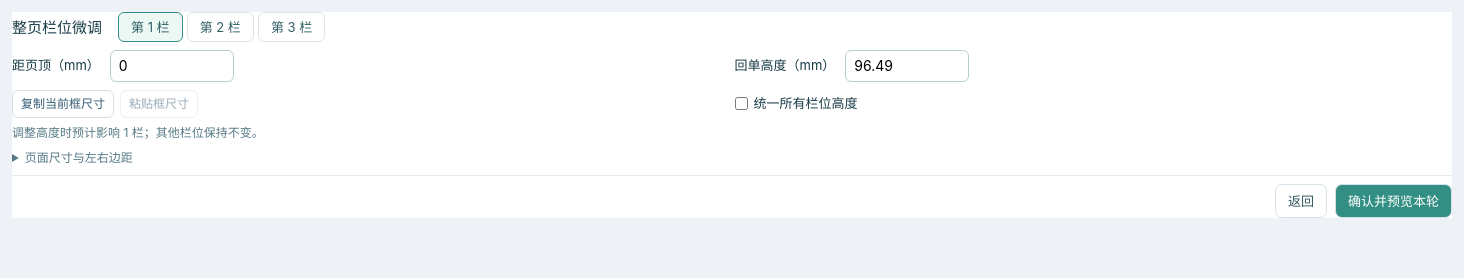
ReceiptLayoutEditor › keeps typed decimal height and lets another slot move after equal-height overflow
This screenshot has width=1464, height=278.
Replace the text in the number field labelled "回单高度（mm）" with "96.25" at (907, 66), box [845, 50, 969, 82]
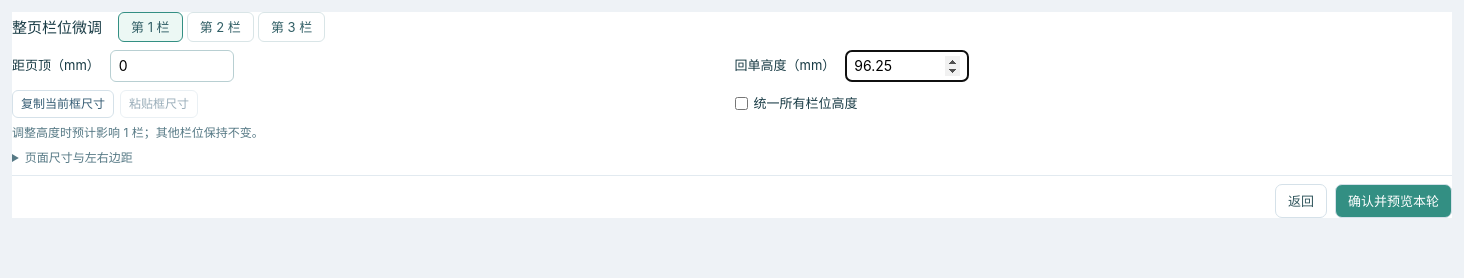
Click the checkbox labelled "统一所有栏位高度".
click(741, 104)  # box [734, 97, 748, 110]
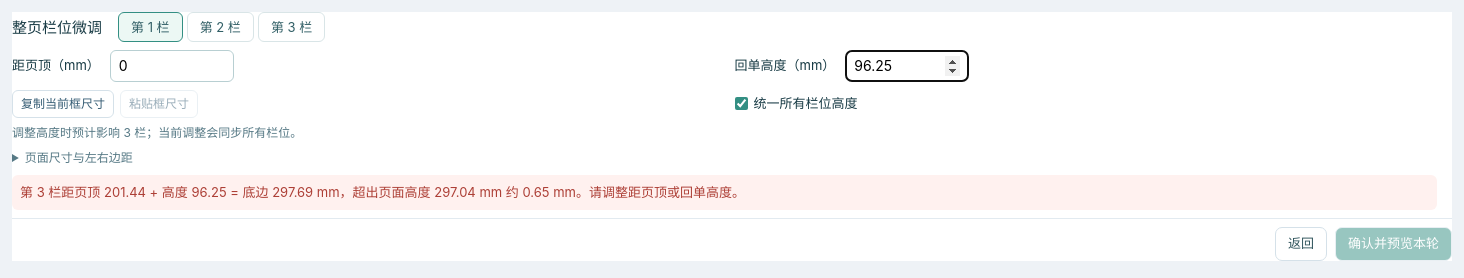
Expected: the checkbox labelled "统一所有栏位高度" is checked, [734, 97, 748, 110]
Expected: the 2nd message shows "0.65", [20, 184, 745, 200]
Expected: the 2nd message shows "297.69", [20, 184, 745, 200]
Click the button "第 3 栏".
click(292, 27)  # box [258, 12, 325, 42]
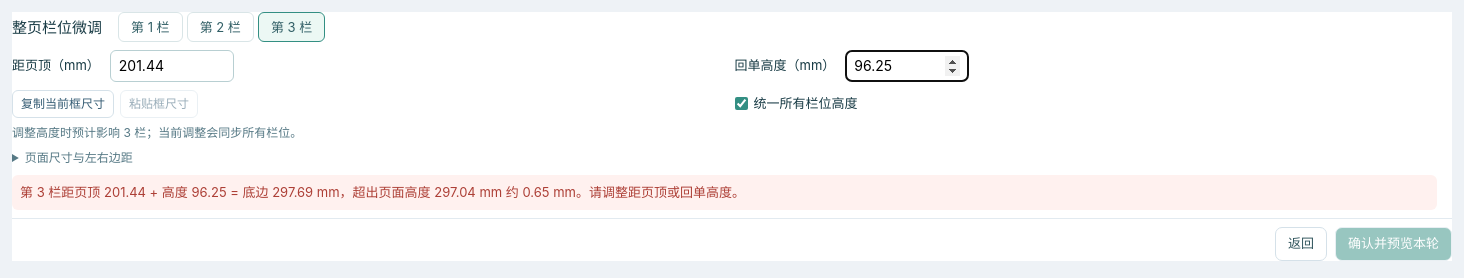
Replace the text in the number field labelled "距页顶（mm）" with "200.79" at (172, 66), box [110, 50, 234, 82]
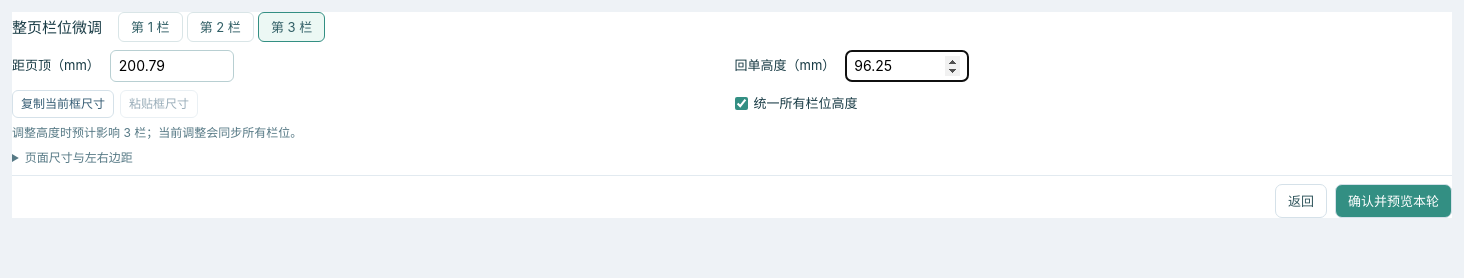
Expected: the button "确认并预览本轮" is enabled, [1335, 184, 1452, 218]
